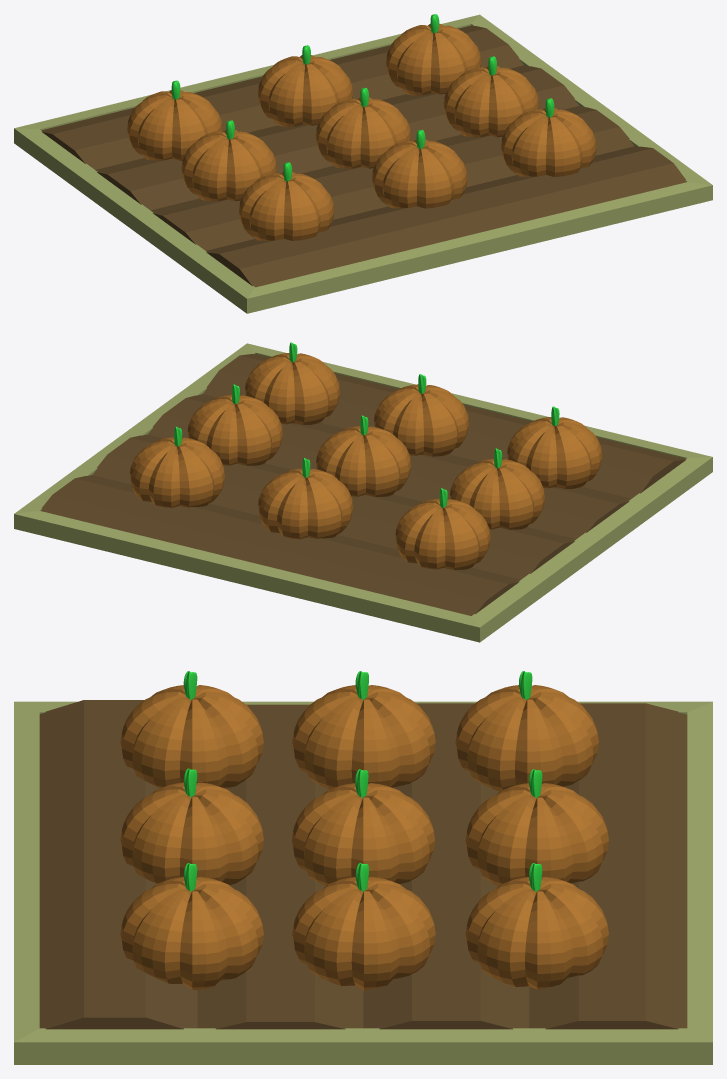
The model's file is тыквы 1.fbx.
3 views of the same model, one above another, from view 1: azimuth 30°, elevation 25°; view 2: azimuth 150°, elevation 25°; view 3: azimuth 270°, elevation 25° (orthographic). The views are drawn at different scales.
Visible parts, largest first — view 1: Cube, Cube.001, Sphere.011, Sphere.008, Sphere.012, Sphere.003, Sphere.004, Sphere.007, Sphere.015, Sphere, Sphere.016; view 2: Cube, Cube.001, Sphere.016, Sphere.003, Sphere.004, Sphere.011, Sphere.008, Sphere.012, Sphere, Sphere.007, Sphere.015; view 3: Cube, Cube.001, Sphere.007, Sphere.004, Sphere.008, Sphere.016, Sphere.015, Sphere.012, Sphere, Sphere.011, Sphere.003.
Part boxes in pixels (<box>): Cube: <box>41,25,686,287</box>; Cube.001: <box>14,14,712,313</box>; Sphere.011: <box>372,139,467,208</box>; Sphere.008: <box>501,108,596,176</box>; Sphere.012: <box>239,171,334,240</box>; Sphere.003: <box>257,55,353,126</box>; Sphere.004: <box>386,23,481,95</box>; Sphere.007: <box>443,66,539,137</box>; Sphere.015: <box>181,130,276,201</box>; Sphere: <box>315,97,411,168</box>; Sphere.016: <box>127,90,222,160</box>; Cube: <box>41,354,685,615</box>; Cube.001: <box>14,343,712,642</box>; Sphere.016: <box>395,498,490,569</box>; Sphere.003: <box>258,468,353,539</box>; Sphere.004: <box>130,437,224,507</box>; Sphere.011: <box>374,384,468,456</box>; Sphere.008: <box>245,353,339,424</box>; Sphere.012: <box>507,417,602,488</box>; Sphere: <box>316,426,411,496</box>; Sphere.007: <box>187,395,282,465</box>; Sphere.015: <box>450,459,544,529</box>; Cube: <box>39,700,687,1029</box>; Cube.001: <box>14,701,712,1064</box>; Sphere.007: <box>292,877,435,990</box>; Sphere.004: <box>465,877,608,989</box>; Sphere.008: <box>120,877,263,990</box>; Sphere.016: <box>455,685,598,791</box>; Sphere.015: <box>292,685,435,789</box>; Sphere.012: <box>120,685,263,788</box>; Sphere: <box>291,783,435,885</box>; Sphere.011: <box>120,782,263,884</box>; Sphere.003: <box>465,783,608,886</box>.
Bounding box in the file's own units: 650 × 112 × 563.
